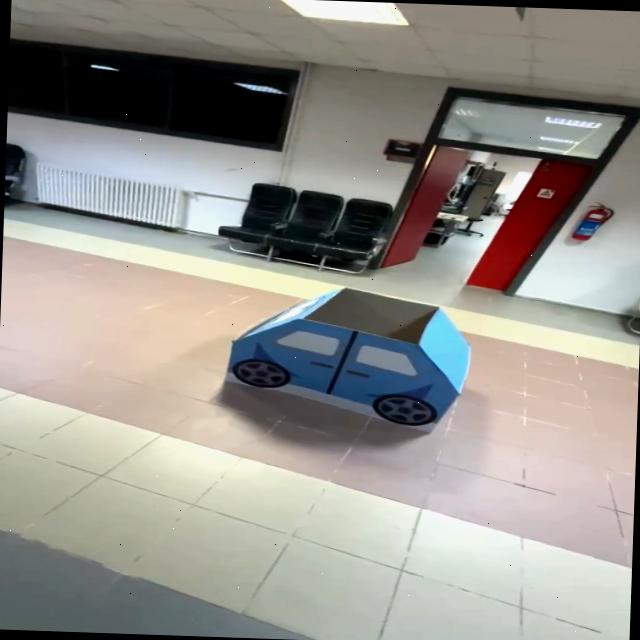blue_car: (208, 276, 500, 454)
